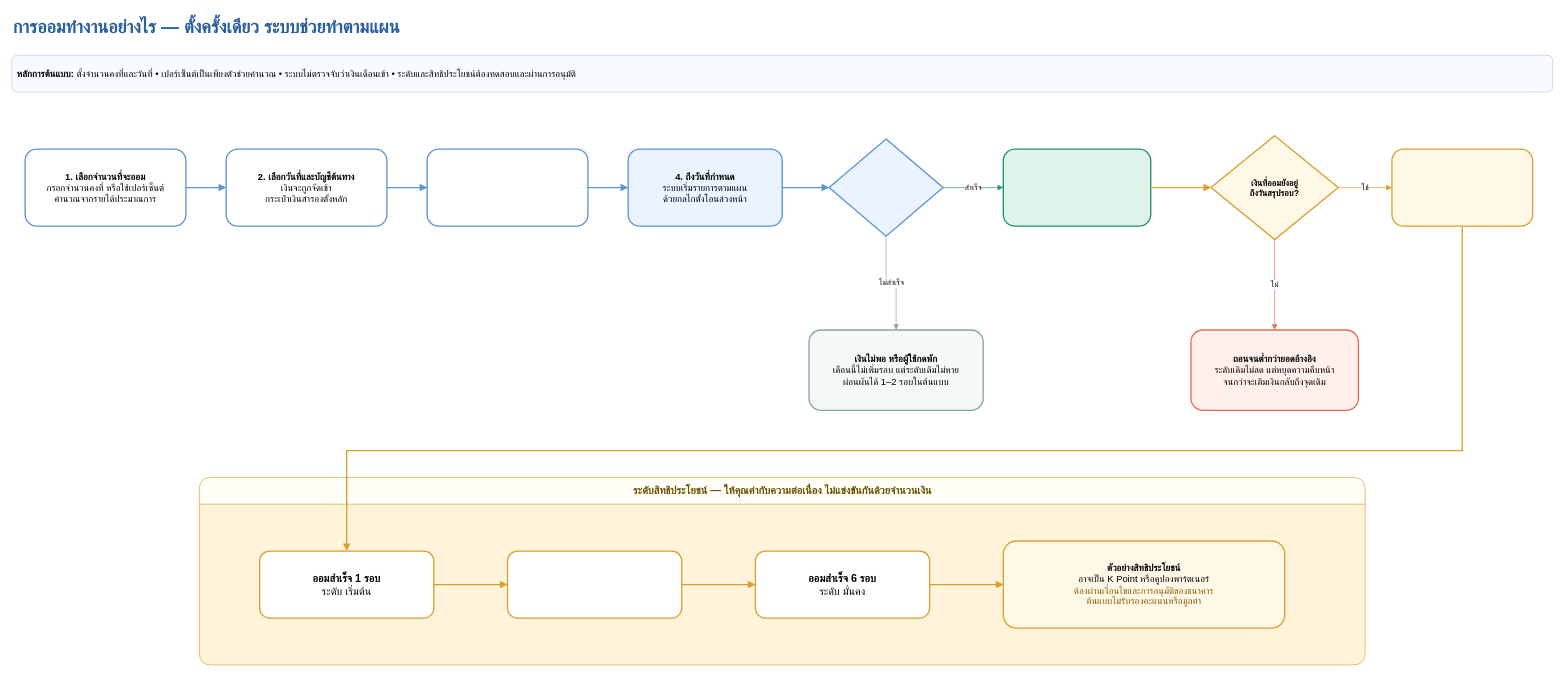
Some shapes in this 1564 by 677 pixel diagram are drawn without their labels. The shapes that lost their labels are listed below. From the top down, each one's centre as x and y in pixels, then its label:
At pixel 507 187: "3. ตรวจทานและยินยอม ดูจำนวน วันที่ บัญชี และเป้าหมาย แก้ไข พัก หรือปิดได้".
At pixel 885 187: "แผนยังเปิดอยู่ และเงินเพียงพอ?".
At pixel 1076 187: "ออมเงินสำเร็จ แสดงใบยืนยันแบบสั้น ไม่แสดงคำเตือน Scam".
At pixel 1462 187: "นับเป็นรอบออมสำเร็จ ความคืบหน้าเพิ่ม 1 รอบ".
At pixel 594 584: "ออมสำเร็จ 3 รอบ ระดับ ต่อเนื่อง".
